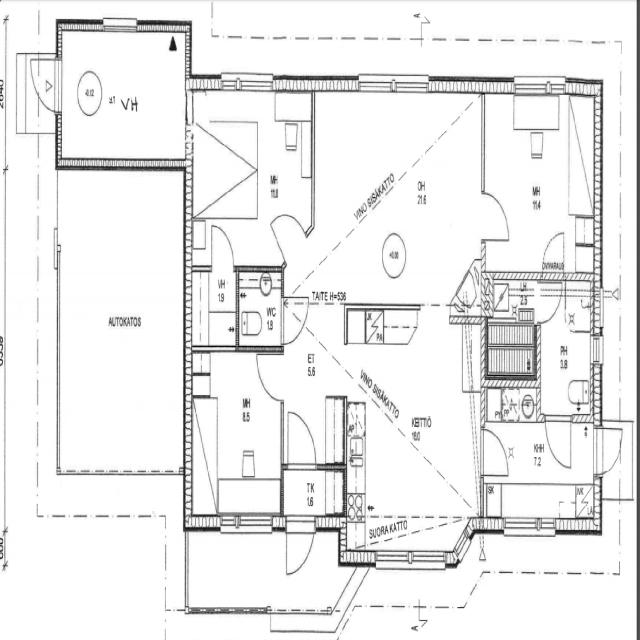door: (189, 345, 283, 523), (235, 268, 284, 350), (28, 50, 66, 117), (268, 203, 309, 262), (284, 404, 318, 473), (478, 422, 516, 482), (479, 184, 514, 246), (542, 411, 576, 474), (284, 515, 316, 580), (252, 345, 286, 403), (278, 294, 310, 347), (206, 219, 237, 272), (596, 421, 624, 477), (539, 226, 568, 274), (536, 281, 565, 326)
window: (354, 68, 431, 96), (376, 548, 451, 575), (219, 509, 278, 539), (216, 68, 275, 96), (505, 514, 558, 542), (98, 8, 140, 36), (511, 72, 557, 95), (452, 522, 472, 562)
zone: (311, 84, 486, 298), (342, 318, 478, 568), (188, 83, 314, 259), (483, 87, 601, 270), (57, 27, 188, 173), (188, 346, 282, 524), (486, 418, 600, 528), (538, 284, 598, 420), (484, 281, 537, 375), (187, 268, 239, 350), (237, 267, 284, 350), (539, 411, 577, 493), (484, 376, 538, 427)
